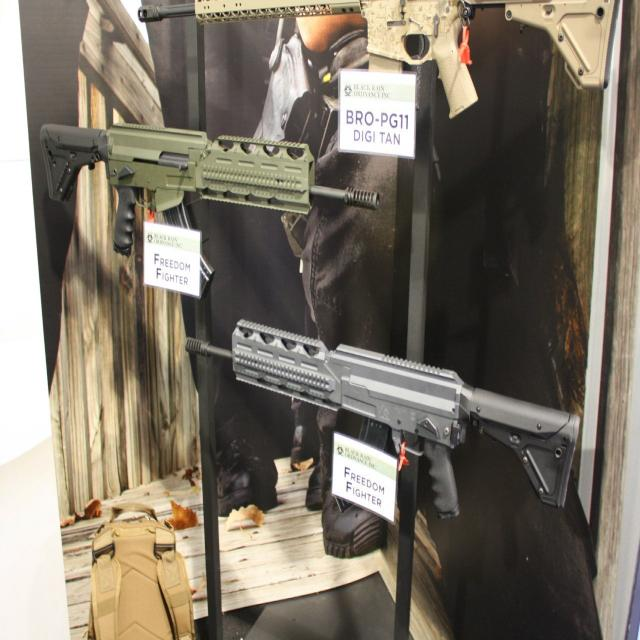firearm: (184, 313, 582, 514), (138, 0, 614, 118), (39, 118, 382, 252)
